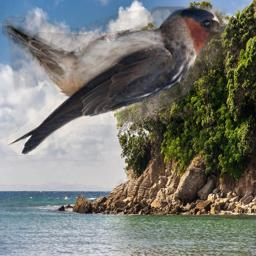Swallow: (2, 6, 233, 155)
